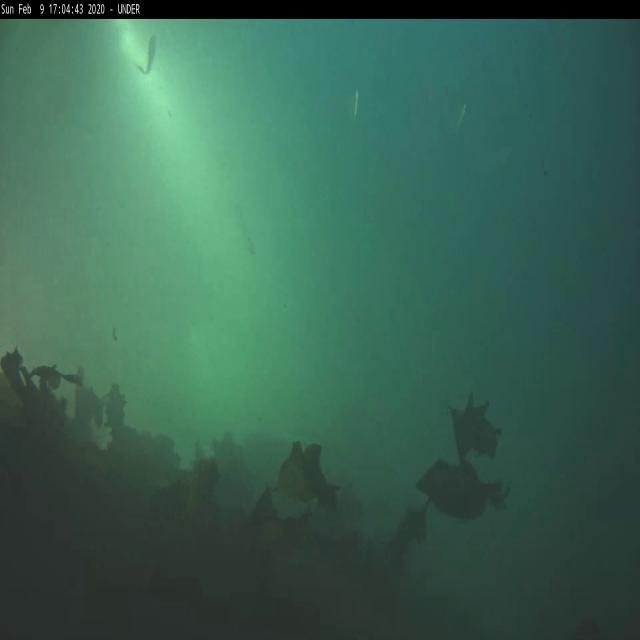fish: (138, 36, 160, 78), (456, 101, 474, 142), (352, 91, 364, 121)
